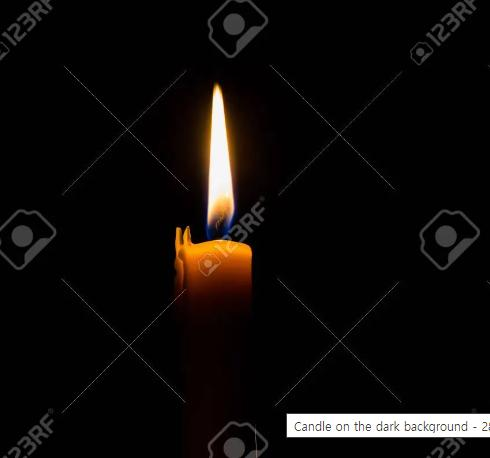fire: (207, 86, 234, 238)
